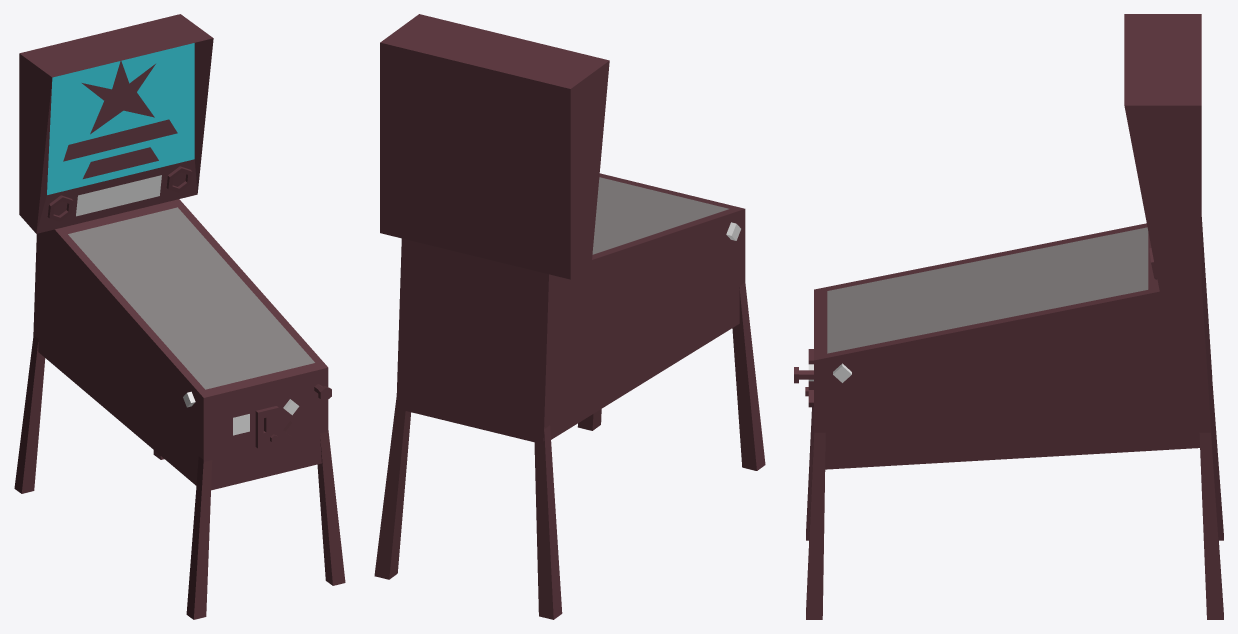
The model's file is pinball-machine-monster.fbx.
3 renders of one model, left to right at view 1: azimuth 30°, elevation 25°; view 2: azimuth 150°, elevation 25°; view 3: azimuth 270°, elevation 25°, orthographic. The views are drawn at different scales.
Visible parts, largest first — view 1: pinball-machine-monster; view 2: pinball-machine-monster; view 3: pinball-machine-monster.
Part boxes in pixels (x1,y1,x2,y2): pinball-machine-monster: (14,14,345,619); pinball-machine-monster: (374,14,765,619); pinball-machine-monster: (794,14,1223,619).
Size of the model in its own units: 0.7284 by 1.91 by 1.44.
